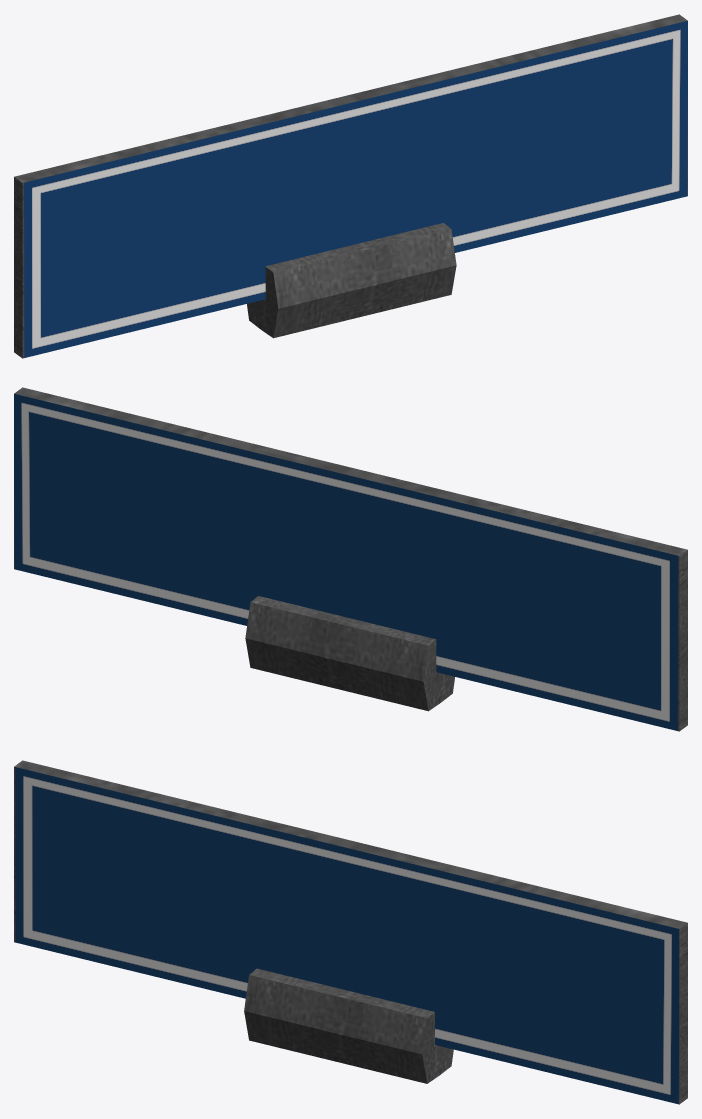
Rendered from VejNavneSkilte1Mid.fbx.
3 views of the same model, one above another, from view 1: azimuth 30°, elevation 25°; view 2: azimuth 150°, elevation 25°; view 3: azimuth 330°, elevation 25° (orthographic).
Parts seen in each view (by area): view 1: Middle; view 2: Middle; view 3: Middle.
Part boxes in pixels (x1,y1,x2,y2): Middle: (14, 14, 687, 358); Middle: (14, 387, 687, 731); Middle: (14, 760, 687, 1104).
Size of what is drawn, in the model's own units: 99.17 by 29.81 by 8.86.
